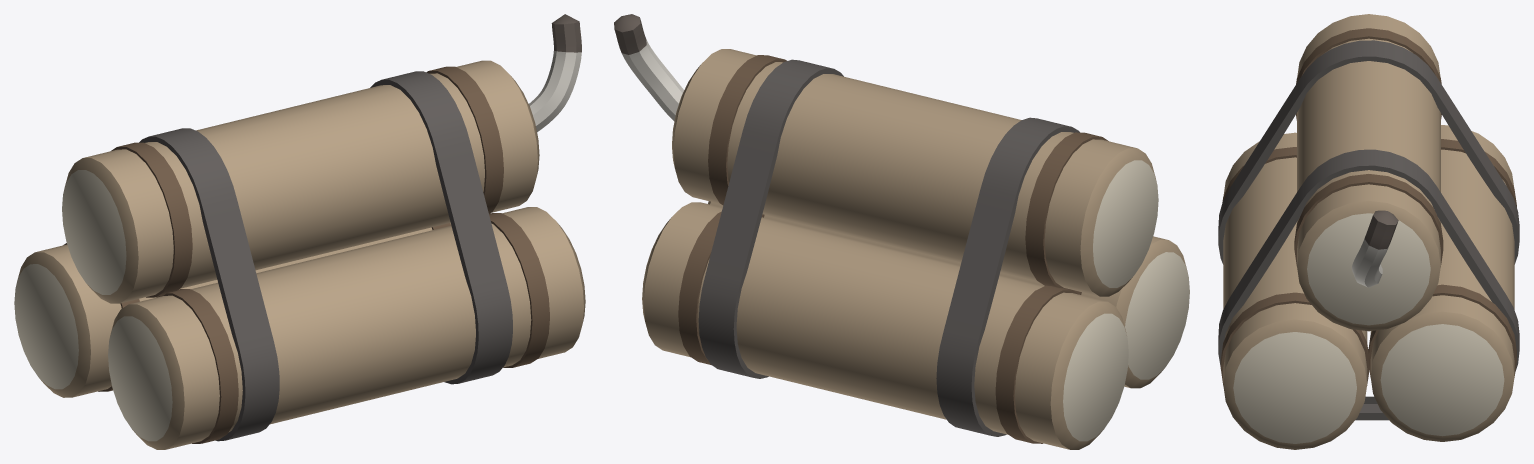
File: dynamite_b_bundle_tan.glb
3 renders of one model, left to right at view 1: azimuth 30°, elevation 25°; view 2: azimuth 150°, elevation 25°; view 3: azimuth 270°, elevation 25°, orthographic. The views are drawn at different scales.
Visible parts, largest first — view 1: Dynamite; view 2: Dynamite; view 3: Dynamite.
Boxes of the visible parts, <box> form: Dynamite: <box>14,14,585,449</box>; Dynamite: <box>614,14,1189,449</box>; Dynamite: <box>1218,14,1519,449</box>.
Bounding box in the file's own units: 0.6557 × 0.3581 × 0.3558.
